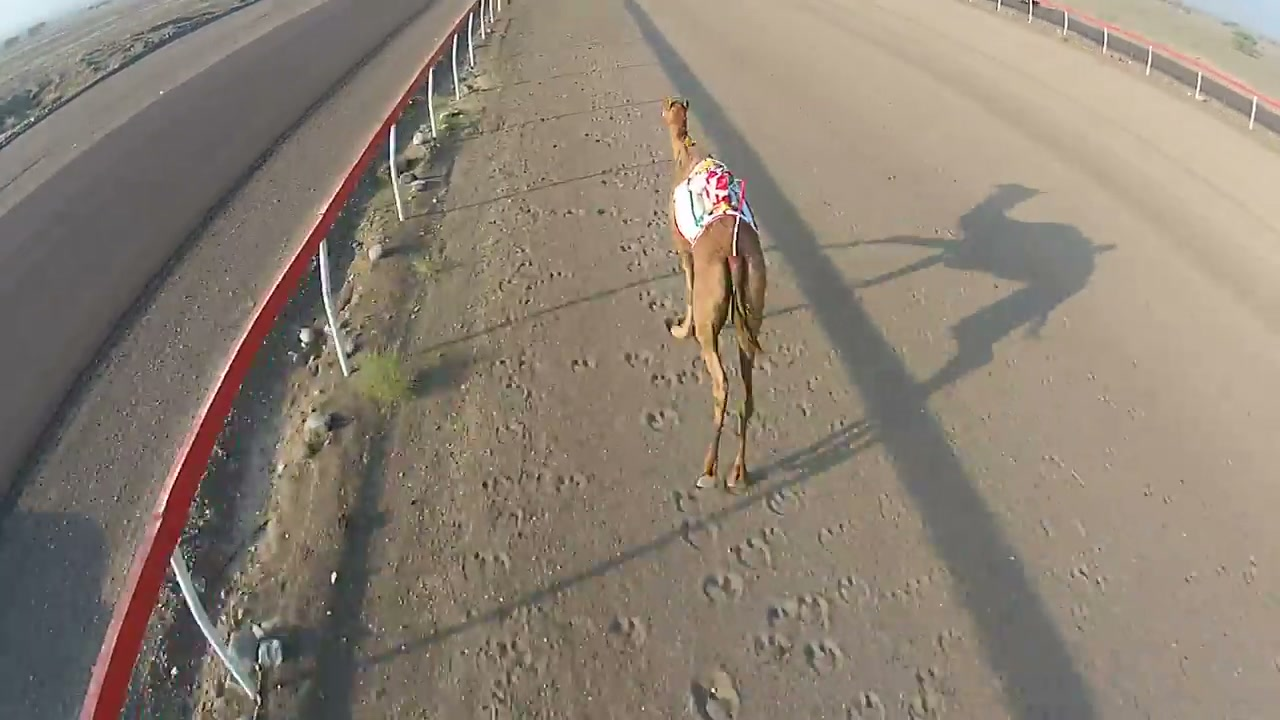animal_footprint: (599, 227, 853, 684)
